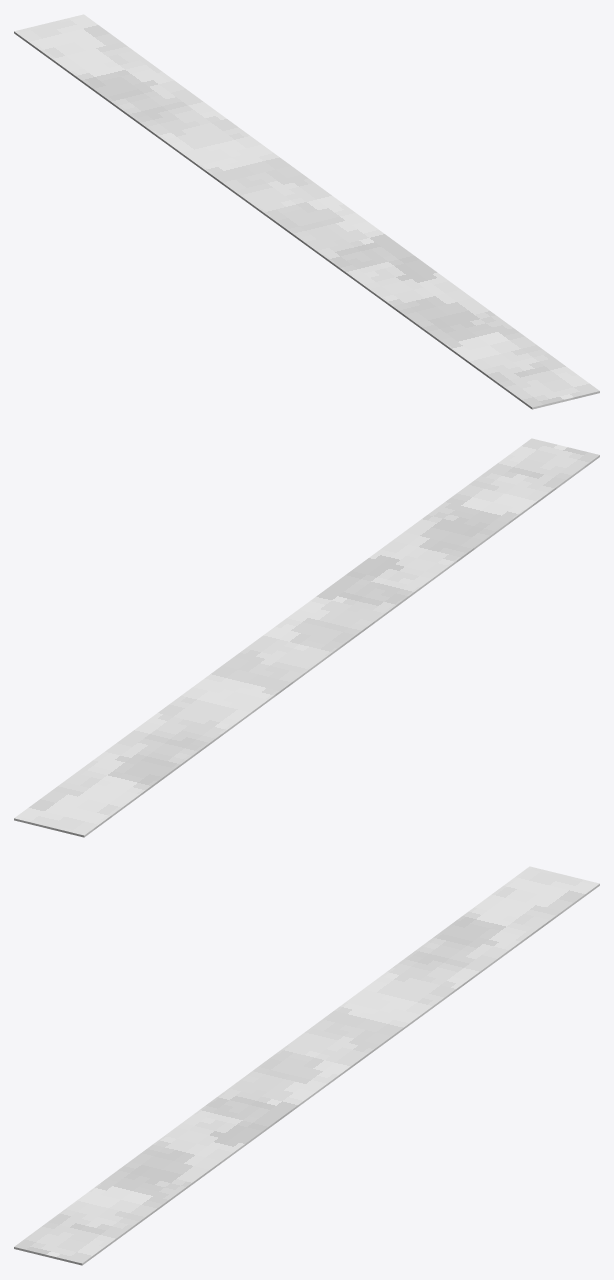
File: Abyss_Right.glb
3 renders of one model, top to bottom at view 1: azimuth 30°, elevation 25°; view 2: azimuth 150°, elevation 25°; view 3: azimuth 330°, elevation 25°, orthographic.
Parts seen in each view (by area): view 1: FTL_Component_Panel_Starboard; view 2: FTL_Component_Panel_Starboard; view 3: FTL_Component_Panel_Starboard.
Part boxes in pixels (x1,y1,x2,y2): FTL_Component_Panel_Starboard: [14, 14, 599, 409]; FTL_Component_Panel_Starboard: [14, 438, 599, 837]; FTL_Component_Panel_Starboard: [14, 866, 599, 1265].
Bounding box in the file's own units: 0.7313 × 0.02 × 9.2.
1 material, 1 textured.
